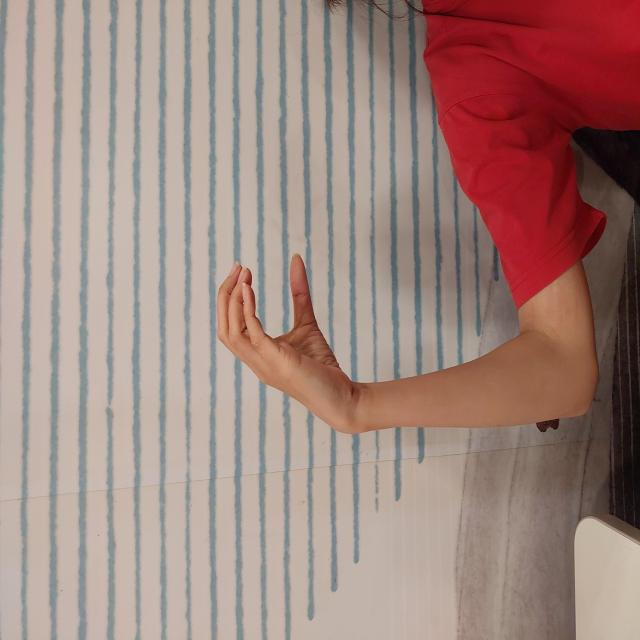C: (230, 215, 389, 357)
